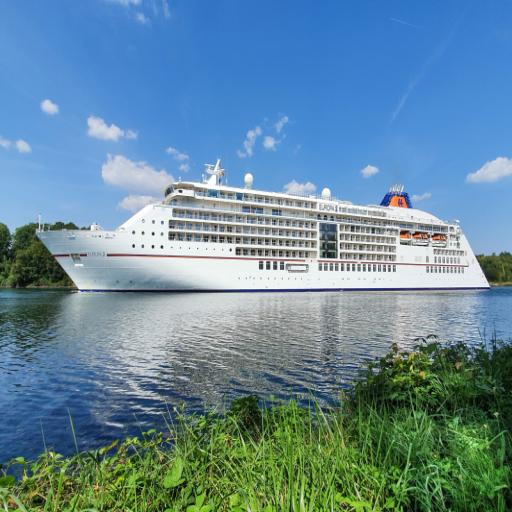cruises: (35, 158, 492, 298)
